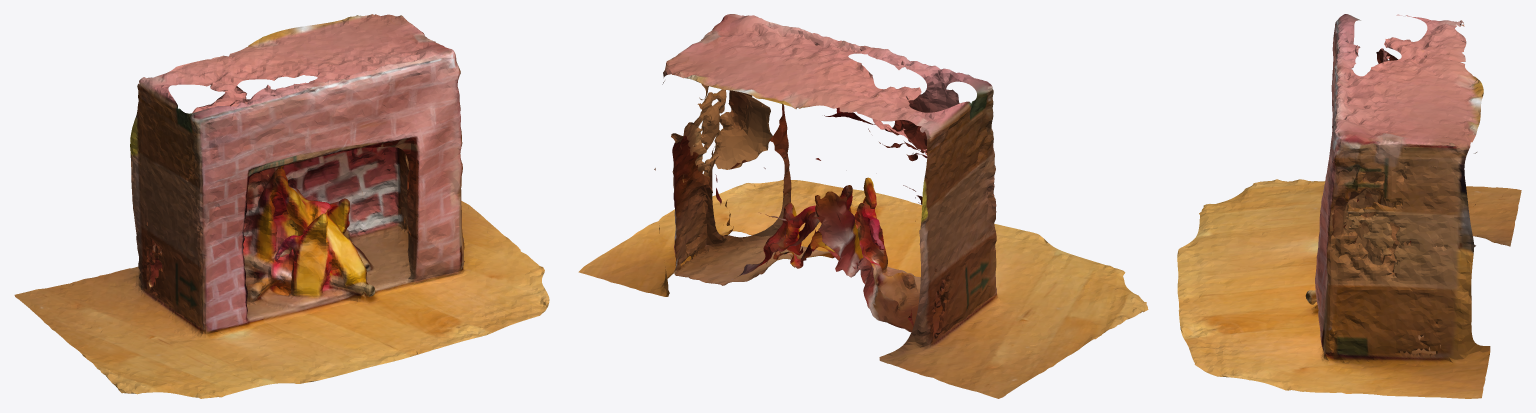
Rendered from fireplace+fire.glb.
3 views of the same model, side by side, from view 1: azimuth 30°, elevation 25°; view 2: azimuth 150°, elevation 25°; view 3: azimuth 270°, elevation 25° (orthographic). The views are drawn at different scales.
Bounding box in the file's own units: 0.441 × 0.2151 × 0.288.
Materials: 1 (1 with a texture image).
